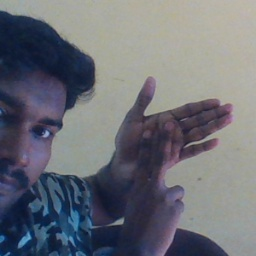N: (110, 74, 238, 218)
